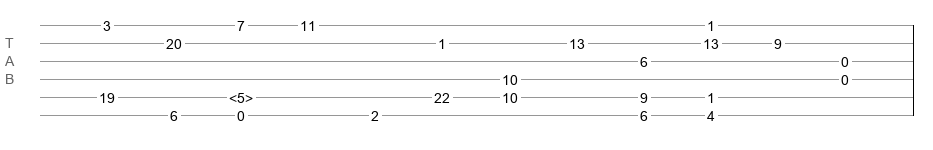0: (237, 108, 245, 118), (841, 72, 849, 82), (841, 54, 849, 64)
1: (438, 36, 446, 46), (707, 90, 715, 100), (707, 18, 715, 28)
10: (502, 72, 518, 82), (502, 90, 518, 100)
11: (300, 18, 316, 28)
13: (569, 36, 585, 46), (703, 36, 719, 46)
19: (99, 90, 115, 100)
2: (371, 108, 379, 118)
20: (166, 36, 182, 46)
22: (434, 90, 450, 100)
3: (103, 18, 111, 28)
4: (707, 108, 715, 118)
6: (170, 108, 178, 118), (640, 54, 648, 64), (640, 108, 648, 118)
7: (237, 18, 245, 28)
9: (640, 90, 648, 100), (774, 36, 782, 46)
harmonic: (229, 90, 253, 100)
